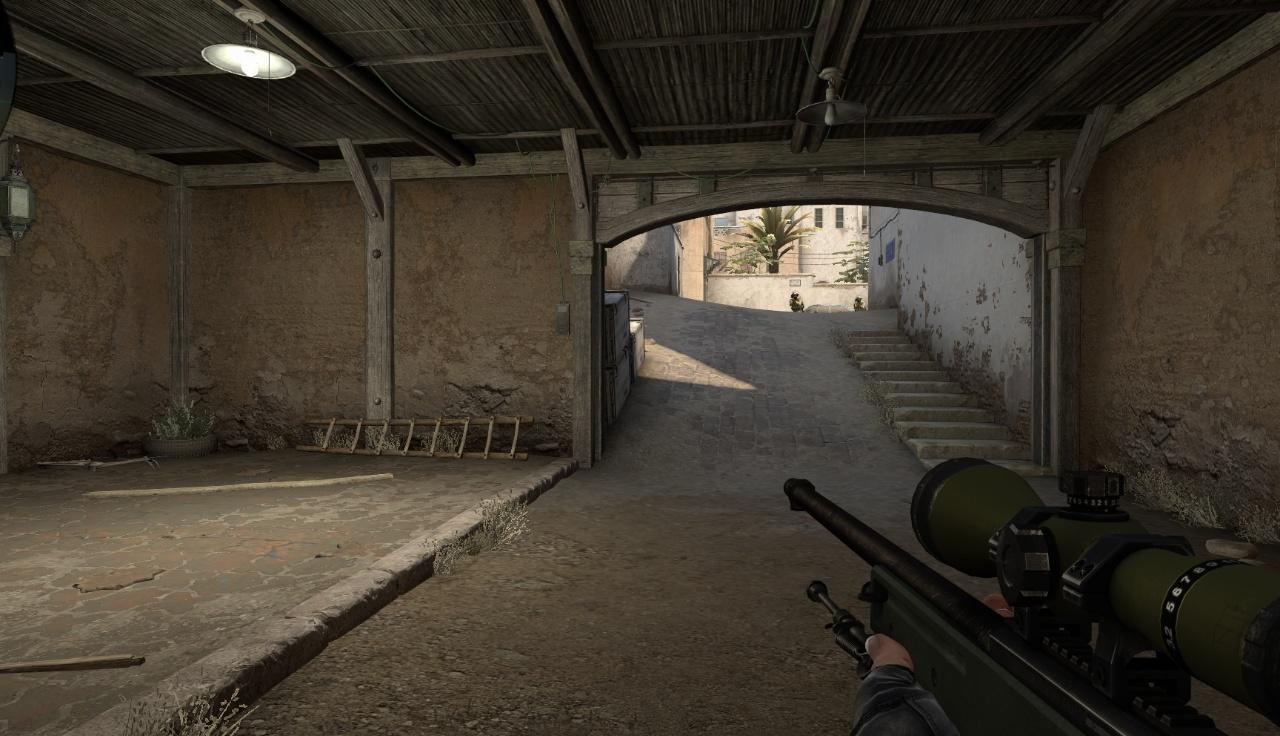ct: (789, 291, 804, 313), (853, 296, 866, 311)
cthead: (791, 291, 800, 299), (855, 297, 863, 303)
sniper: (786, 452, 1280, 736)
